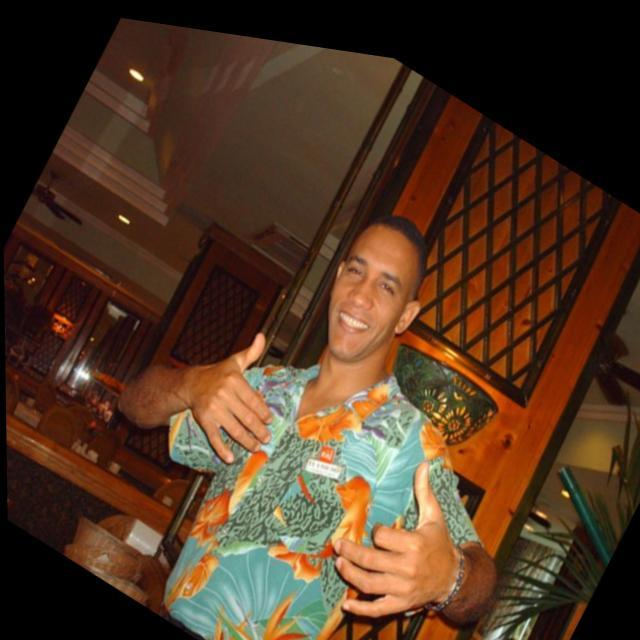Nonhelmet: (320, 212, 431, 364)
